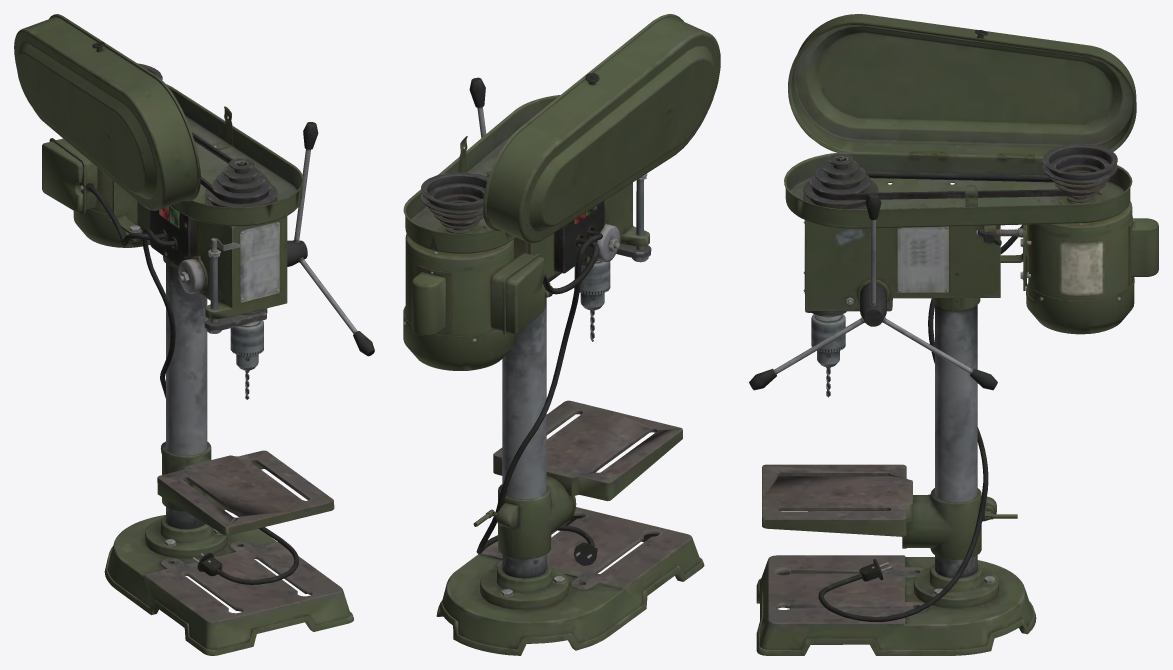
File: drill_press_01.glb
The picture shows the model from 3 angles, left to right: view 1: azimuth 30°, elevation 25°; view 2: azimuth 150°, elevation 25°; view 3: azimuth 270°, elevation 25°; orthographic projection. The views are drawn at different scales.
Visible parts, largest first — view 1: drill_press_01; view 2: drill_press_01; view 3: drill_press_01.
Boxes of the visible parts, left/top/right/bottom form: drill_press_01: left=14, top=14, right=374, bottom=655; drill_press_01: left=403, top=14, right=720, bottom=655; drill_press_01: left=749, top=14, right=1158, bottom=655.
Bounding box in the file's own units: 0.3543 × 0.9011 × 0.5987.
1 material, 1 textured.
